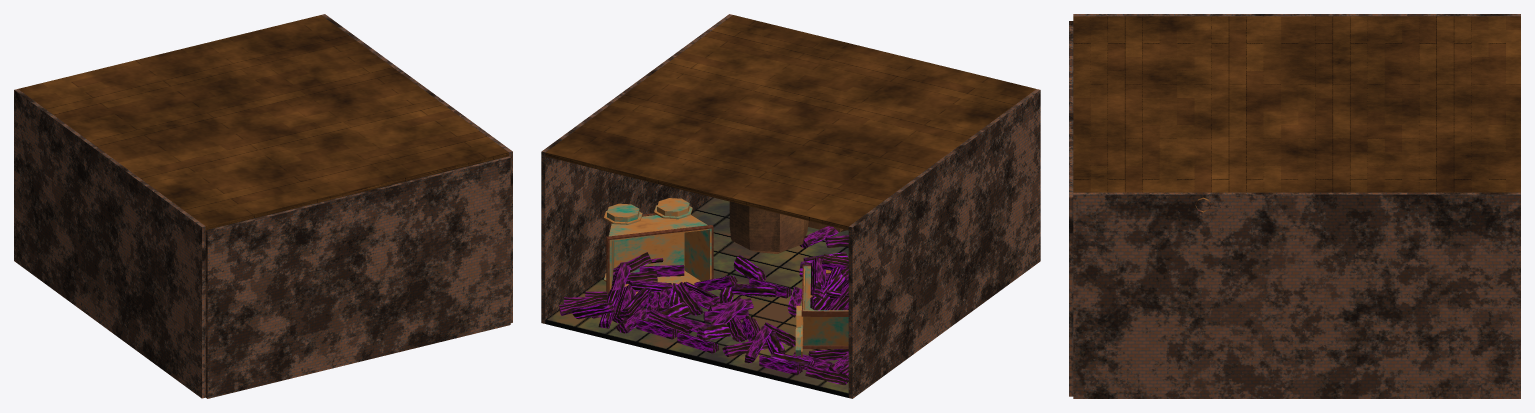
File: GeneratorRoom3_3.fbx
3 renders of one model, left to right at view 1: azimuth 30°, elevation 25°; view 2: azimuth 150°, elevation 25°; view 3: azimuth 270°, elevation 25°, orthographic. The views are drawn at different scales.
Parts seen in each view (by area): view 1: DirtyCeiling.004, SideWall1.033, SideWall1.032, SideWall1.031; view 2: DirtyCeiling.004, SideWall1.032, SideWall1.031, DirtyGround.004, Minecart.001, Generator.003, Cube.216, CharredWood.097, CharredWood.130, CharredWood.093, CharredWood.122, CharredWood.089 (+6 smaller); view 3: SideWall1.031, DirtyCeiling.004, SideWall1.033, SideWall1.032.
Part boxes in pixels (x1=…): DirtyCeiling.004: x1=18, y1=15, x2=508, y2=230; SideWall1.033: x1=205, y1=156, x2=510, y2=398; SideWall1.032: x1=14, y1=89, x2=205, y2=398; SideWall1.031: x1=322, y1=14, x2=512, y2=322; DirtyCeiling.004: x1=545, y1=15, x2=1036, y2=230; SideWall1.032: x1=848, y1=89, x2=1040, y2=398; SideWall1.031: x1=541, y1=14, x2=732, y2=323; DirtyGround.004: x1=545, y1=197, x2=848, y2=397; Minecart.001: x1=604, y1=198, x2=713, y2=294; Generator.003: x1=729, y1=201, x2=846, y2=253; Cube.216: x1=795, y1=265, x2=848, y2=357; CharredWood.097: x1=731, y1=283, x2=776, y2=297; CharredWood.130: x1=759, y1=355, x2=802, y2=375; CharredWood.093: x1=647, y1=310, x2=692, y2=334; CharredWood.122: x1=805, y1=365, x2=848, y2=385; CharredWood.089: x1=636, y1=318, x2=677, y2=339; SideWall1.031: x1=1073, y1=192, x2=1520, y2=398; DirtyCeiling.004: x1=1073, y1=16, x2=1520, y2=192; SideWall1.033: x1=1069, y1=21, x2=1073, y2=396; SideWall1.032: x1=1073, y1=14, x2=1520, y2=16.
Bounding box in the file's own units: 520 × 272 × 546.
